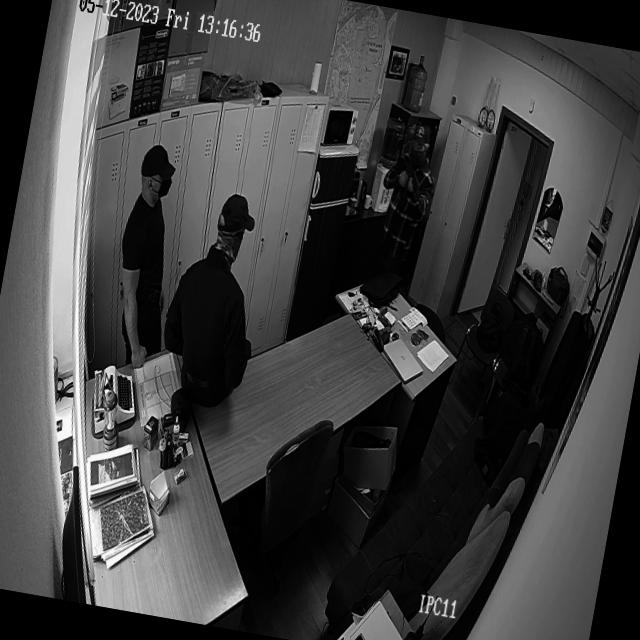gun: (394, 156, 431, 202), (520, 262, 534, 280)
person: (156, 195, 280, 414), (106, 144, 192, 357)
person with a gun: (370, 118, 448, 284)
